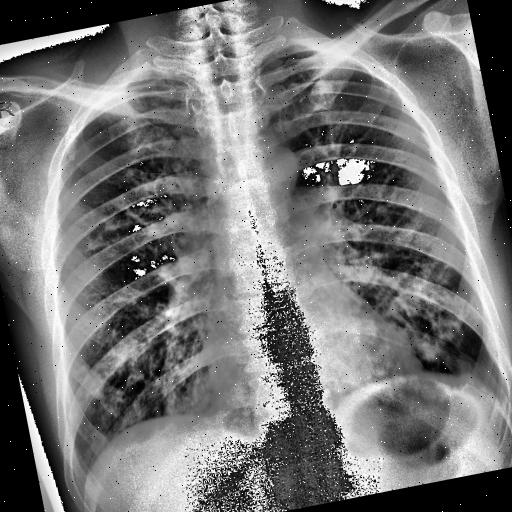10- Pleural effusion: (481, 370, 512, 413)
11- Pleural thickening: (481, 370, 512, 413)
13- Pulmonary fibrosis: (82, 196, 170, 253)
7- Lung Opacity: (384, 238, 492, 374)
